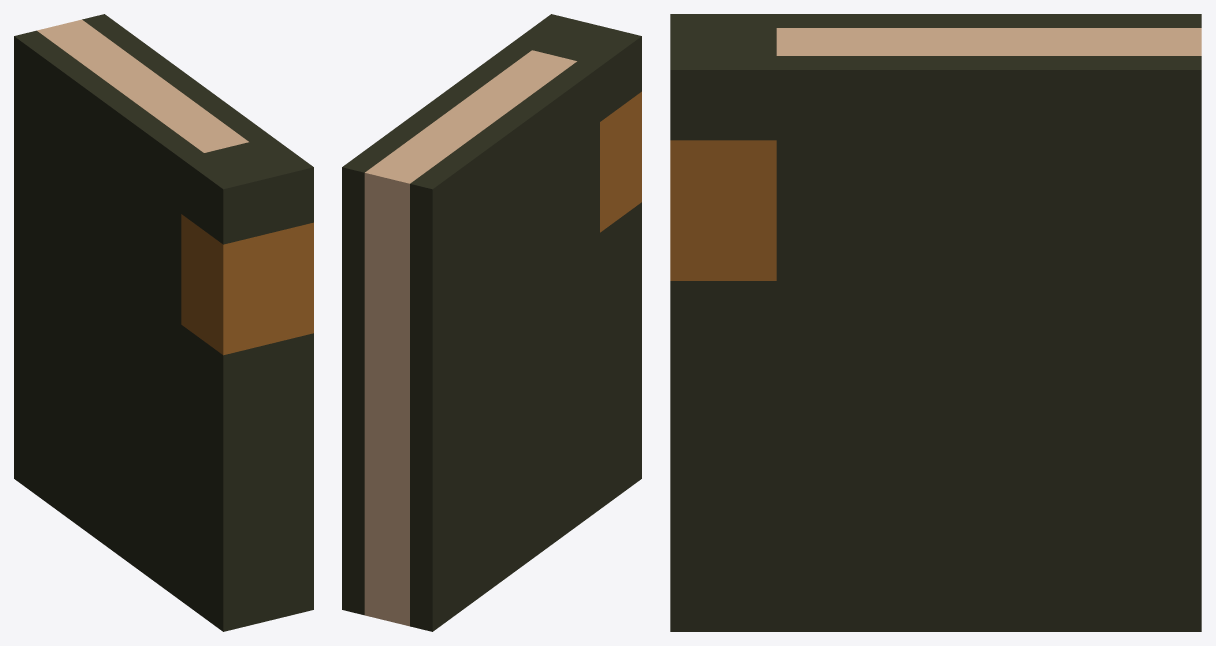
Rendered from livre3.fbx.
3 renders of one model, left to right at view 1: azimuth 30°, elevation 25°; view 2: azimuth 150°, elevation 25°; view 3: azimuth 270°, elevation 25°, orthographic. The views are drawn at different scales.
Visible parts, largest first — view 1: Livre 3; view 2: Livre 3; view 3: Livre 3.
Boxes of the visible parts, left/top/right/bottom form: Livre 3: left=14, top=14, right=313, bottom=631; Livre 3: left=342, top=14, right=641, bottom=631; Livre 3: left=670, top=14, right=1201, bottom=631.
Size of the model in its own units: 6 by 28 by 24.
Materials: 1 (1 with a texture image).
